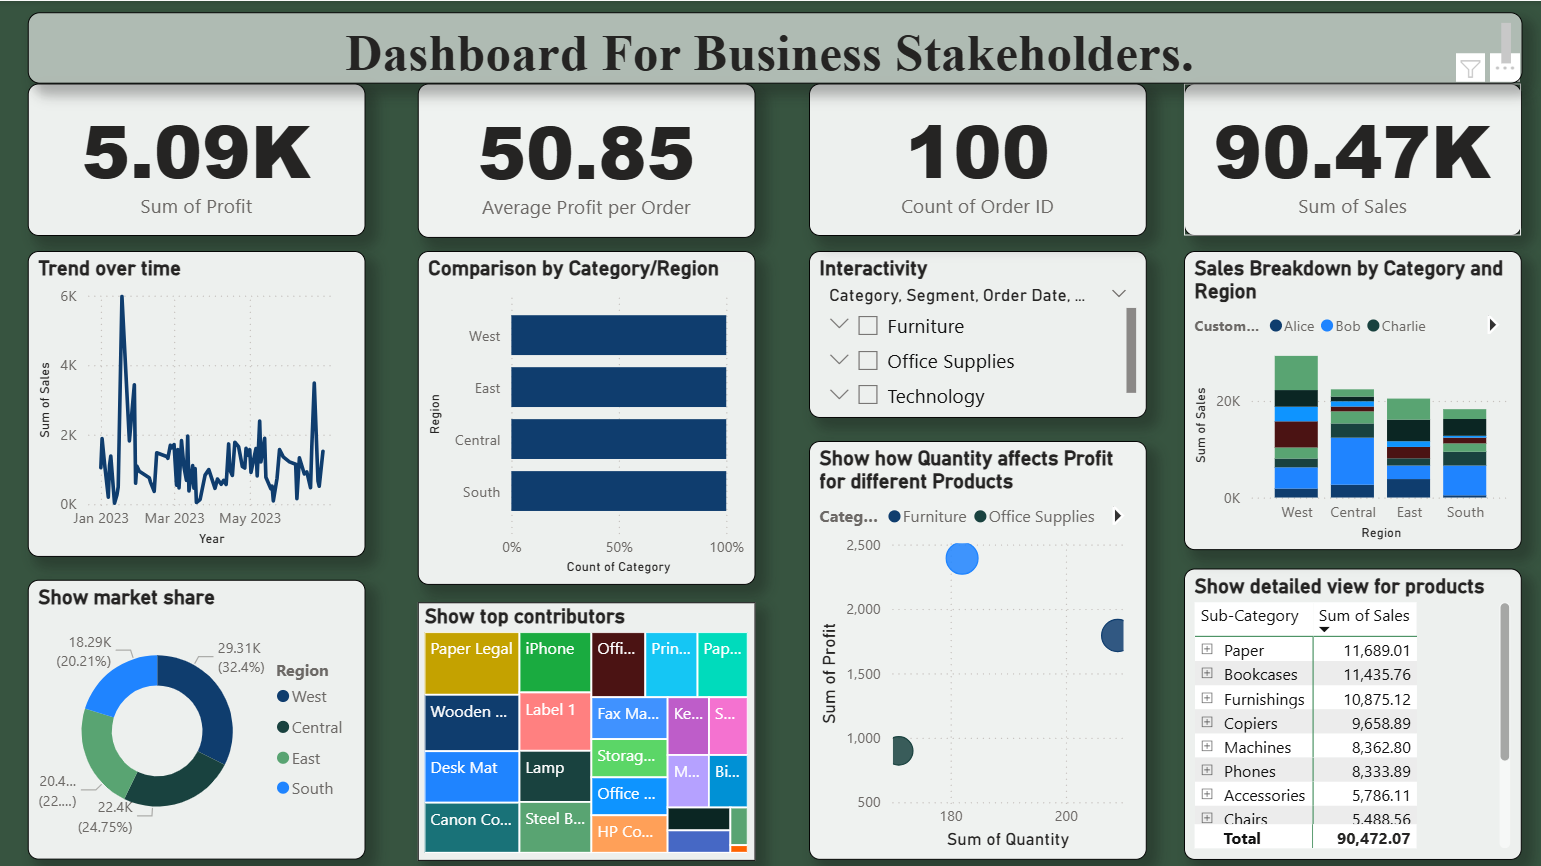

The page's visual inventory and layout, read from the dashboard file:
{"tool":"powerbi","page":{"name":"Page 1","canvas":[1280,720],"ordinal":0},"visuals":[{"type":"card","fields":{"Values":["Expanded_Superstore_Dataset.Profit"]},"box":[23.3,68.6,279.9,126.2],"z":0},{"type":"slicer","title":"\tInteractivity","fields":{"Values":["Superstore.Category","Superstore.Segment","Superstore.Order Date","Superstore.Region"]},"box":[671,207.2,279.9,138.6],"z":1000},{"type":"lineChart","title":"Trend over time ","fields":{"Y":["Superstore.Sales"],"Category":["Superstore.Order Date.Variation.Date Hierarchy.Year","Superstore.Order Date.Variation.Date Hierarchy.Quarter","Superstore.Order Date.Variation.Date Hierarchy.Month","Superstore.Order Date.Variation.Date Hierarchy.Day"]},"box":[23.3,207.2,279.9,253.9],"z":2000},{"type":"card","fields":{"Values":["Superstore.Sales"]},"box":[982.5,68.6,279.9,126.2],"z":3000},{"type":"card","fields":{"Values":["Superstore.Average Profit per Order"]},"box":[347.2,68.6,279.9,127.6],"z":4000},{"type":"card","fields":{"Values":["Superstore.Order ID"]},"box":[671,68.6,279.9,126.2],"z":5000},{"type":"hundredPercentStackedBarChart","title":"Comparison by Category/Region","fields":{"Y":["Superstore.Category"],"Category":["Superstore.Region"]},"box":[347.2,207.2,279.9,277.2],"z":6000},{"type":"donutChart","title":"Show market share","fields":{"Y":["Superstore.Sales"],"Category":["Superstore.Region"]},"box":[23.3,480.3,279.9,231.9],"z":7000},{"type":"treemap","title":"Show top contributors","fields":{"Values":["Superstore.Sales"],"Group":["Superstore.Product Name"]},"box":[347.2,498.1,279.9,214.1],"z":8000},{"type":"pivotTable","title":"Show detailed view for products","fields":{"Rows":["Superstore.Sub-Category","Superstore.Category"],"Values":["Superstore.Sales"]},"box":[982.5,470.7,279.9,241.5],"z":9000},{"type":"scatterChart","title":"Show how Quantity affects Profit for different Products","fields":{"X":["Superstore.Quantity"],"Y":["Superstore.Profit"],"Series":["Superstore.Category"],"Size":["Superstore.Sales"]},"box":[671,365,279.9,347.2],"z":10000},{"type":"columnChart","title":"Sales Breakdown by Category and Region","fields":{"Category":["Superstore.Region"],"Series":["Superstore.Customer Name"],"Y":["Superstore.Sales"]},"box":[982.5,207.2,279.9,248.4],"z":11000},{"type":"textbox","box":[23.3,9.6,1239.1,59],"z":11001}]}

Visuals, with their boxes in screenshot pixels (x1, y1, x2, y2), scaled from the page's 1280x720 canvas onto the 1541x866 screenshot:
card - Expanded_Superstore_Dataset.Profit: left=28, top=83, right=365, bottom=234
"	Interactivity" slicer: left=808, top=249, right=1145, bottom=416
"Trend over time " lineChart: left=28, top=249, right=365, bottom=555
card - Superstore.Sales: left=1183, top=83, right=1520, bottom=234
card - Superstore.Average Profit per Order: left=418, top=83, right=755, bottom=236
card - Superstore.Order ID: left=808, top=83, right=1145, bottom=234
"Comparison by Category/Region" hundredPercentStackedBarChart: left=418, top=249, right=755, bottom=583
"Show market share" donutChart: left=28, top=578, right=365, bottom=857
"Show top contributors" treemap: left=418, top=599, right=755, bottom=857
"Show detailed view for products" pivotTable: left=1183, top=566, right=1520, bottom=857
"Show how Quantity affects Profit for different Products" scatterChart: left=808, top=439, right=1145, bottom=857
"Sales Breakdown by Category and Region" columnChart: left=1183, top=249, right=1520, bottom=548
textbox: left=28, top=12, right=1520, bottom=83
